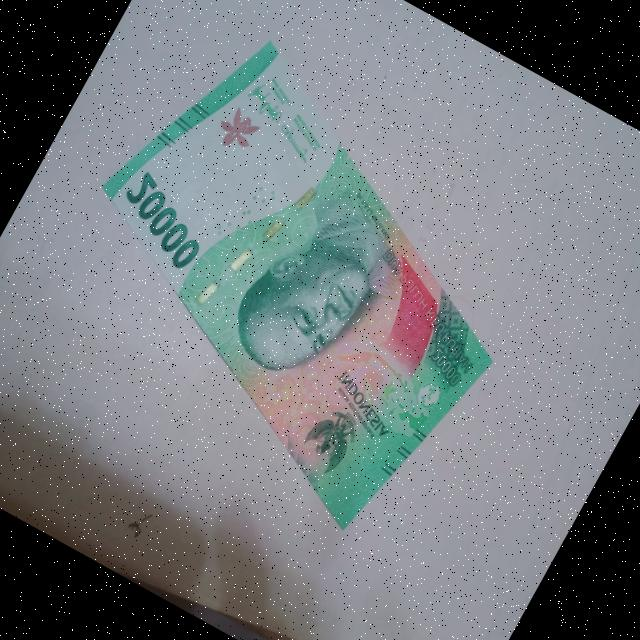20K: (6, 0, 581, 561)
